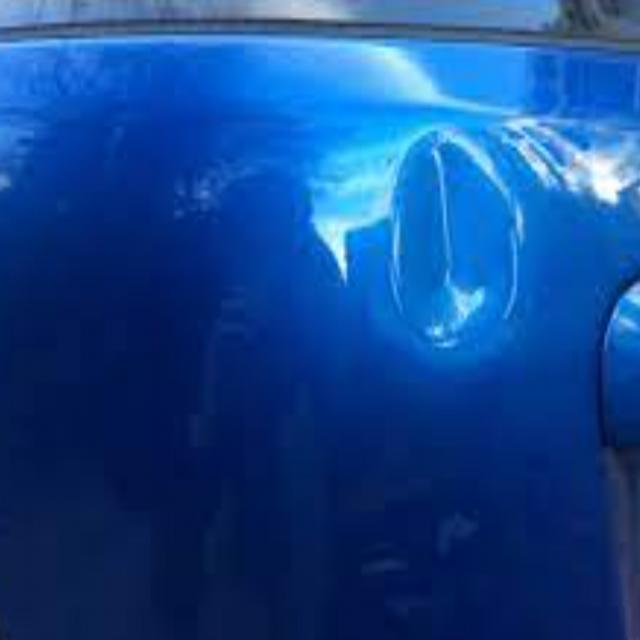dents: (361, 124, 533, 384)
